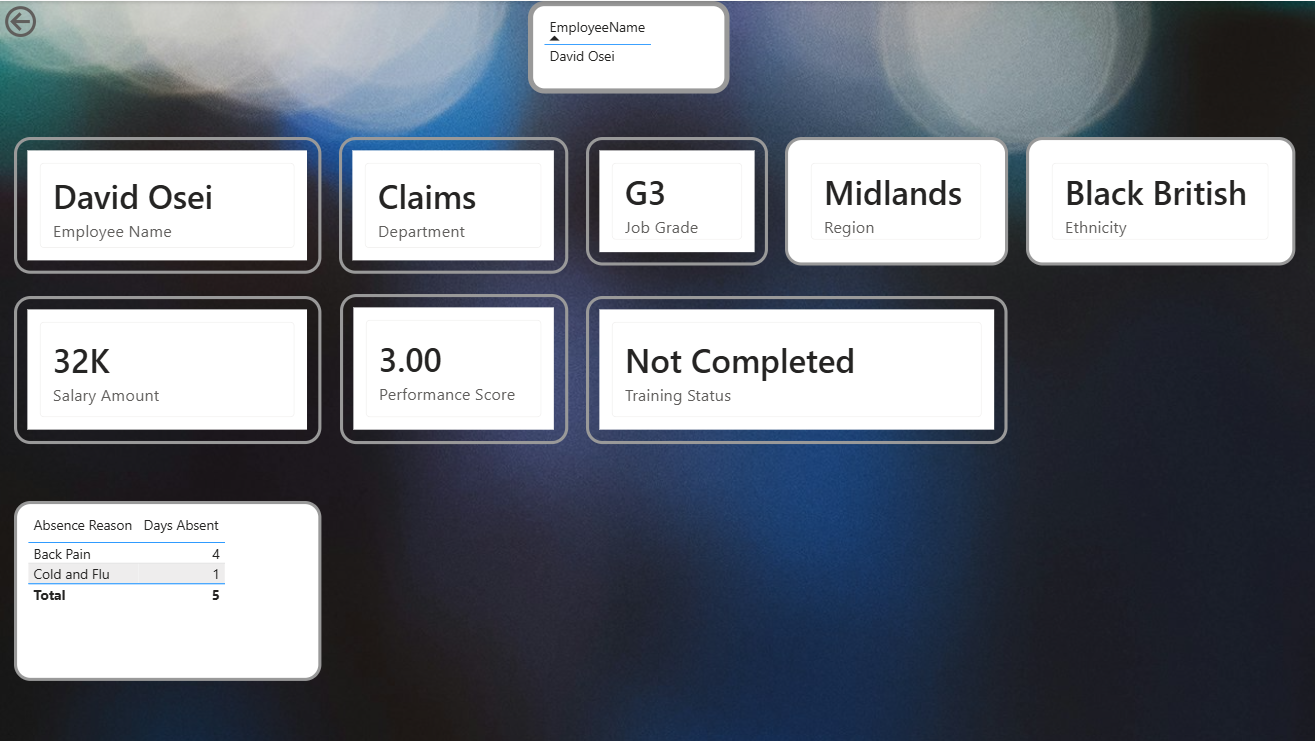

Layout of this report page (visuals, bound fields, positions):
{"tool":"powerbi","page":{"name":"Department Detail ","canvas":[1280,720],"ordinal":7},"visuals":[{"type":"tableEx","fields":{"Values":["Employees.EmployeeName"]},"box":[9.7,0,280.1,453.3],"z":0},{"type":"cardVisual","fields":{"Data":["Min(vw_WorkforceOverview.EmployeeName)"]},"box":[321,140.1,298.6,133.3],"z":1000},{"type":"cardVisual","fields":{"Data":["Min(vw_WorkforceOverview.Department)"]},"box":[679.4,140.1,222.7,133.3],"z":2000},{"type":"cardVisual","fields":{"Data":["Min(vw_WorkforceOverview.JobGrade)"]},"box":[961.9,140.1,177,125.5],"z":3000},{"type":"cardVisual","fields":{"Data":["Max(vw_SalaryEquity.SalaryAmount)"]},"box":[338.5,284,264.6,169.2],"z":4000},{"type":"tableEx","fields":{"Values":["vw_AbsenceAnalysis.AbsenceReason","Sum(vw_AbsenceAnalysis.DaysAbsent)"]},"box":[347.2,482.4,292.8,186.7],"z":5000},{"type":"cardVisual","fields":{"Data":["Sum(vw_PerformanceInsights.Score)"]},"box":[671.1,284,222.7,172.2],"z":6000},{"type":"cardVisual","fields":{"Data":["Min(Training.Status)"]},"box":[961.9,284,237.3,172.2],"z":7000},{"type":"actionButton","box":[0,0,100,40],"z":8000}]}

Visuals, with their boxes in screenshot pixels (x1, y1, x2, y2), scaled from the page's 1280x720 canvas onto the 1315x741 screenshot:
tableEx - Employees.EmployeeName: l=10, t=0, r=298, b=467
cardVisual - Min(vw_WorkforceOverview.EmployeeName): l=330, t=144, r=637, b=281
cardVisual - Min(vw_WorkforceOverview.Department): l=698, t=144, r=927, b=281
cardVisual - Min(vw_WorkforceOverview.JobGrade): l=988, t=144, r=1170, b=273
cardVisual - Max(vw_SalaryEquity.SalaryAmount): l=348, t=292, r=620, b=466
tableEx - vw_AbsenceAnalysis.AbsenceReason x Sum(vw_AbsenceAnalysis.DaysAbsent): l=357, t=496, r=658, b=689
cardVisual - Sum(vw_PerformanceInsights.Score): l=689, t=292, r=918, b=470
cardVisual - Min(Training.Status): l=988, t=292, r=1232, b=470
actionButton: l=0, t=0, r=103, b=41
